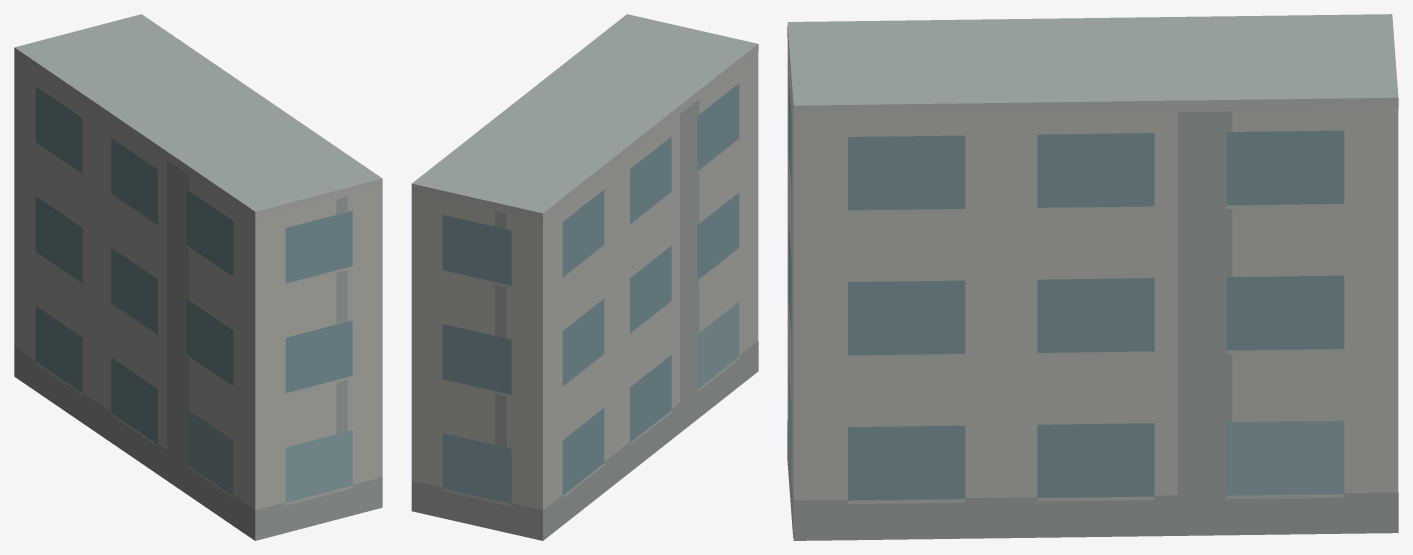
The model's file is survey-upis-32589692.glb.
The picture shows the model from 3 angles, left to right: view 1: azimuth 30°, elevation 25°; view 2: azimuth 150°, elevation 25°; view 3: azimuth 270°, elevation 25°; orthographic projection. The views are drawn at different scales.
Parts seen in each view (by area): view 1: survey-upis-32589692.tmp; view 2: survey-upis-32589692.tmp; view 3: survey-upis-32589692.tmp.
Part boxes in pixels (x1,y1,x2,y2): survey-upis-32589692.tmp: [14, 14, 382, 540]; survey-upis-32589692.tmp: [411, 14, 758, 540]; survey-upis-32589692.tmp: [787, 14, 1398, 540].
Bounding box in the file's own units: 4.14 × 9.15 × 11.65.
